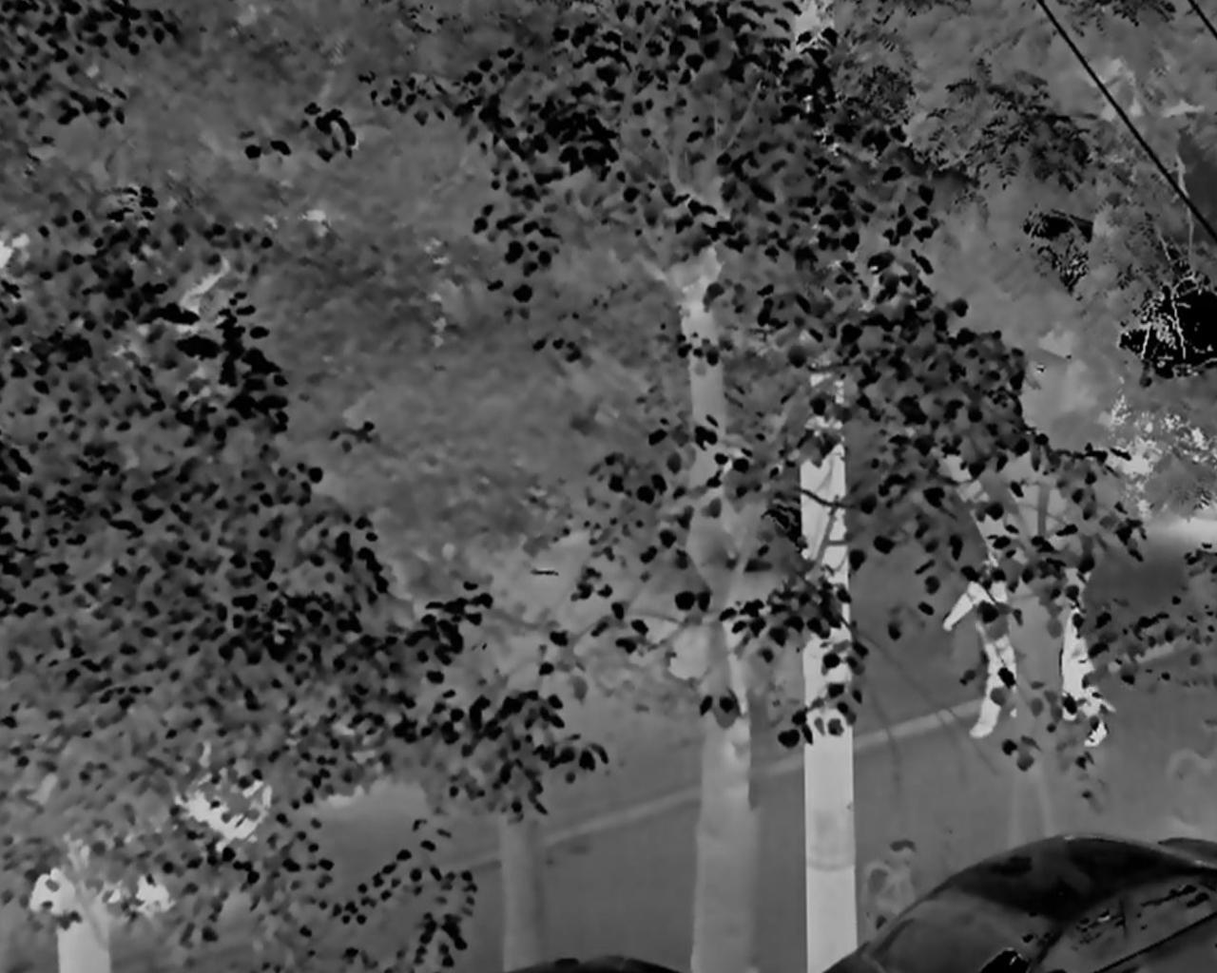person: (953, 544, 1022, 734), (1058, 562, 1116, 741)
